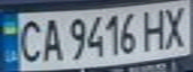1: (103, 11, 124, 56)
4: (84, 12, 106, 60)
6: (118, 9, 142, 55)
9: (63, 14, 87, 61)
A: (36, 15, 63, 62)
C: (12, 16, 45, 64)
H: (139, 6, 172, 52)
X: (157, 2, 193, 50)
